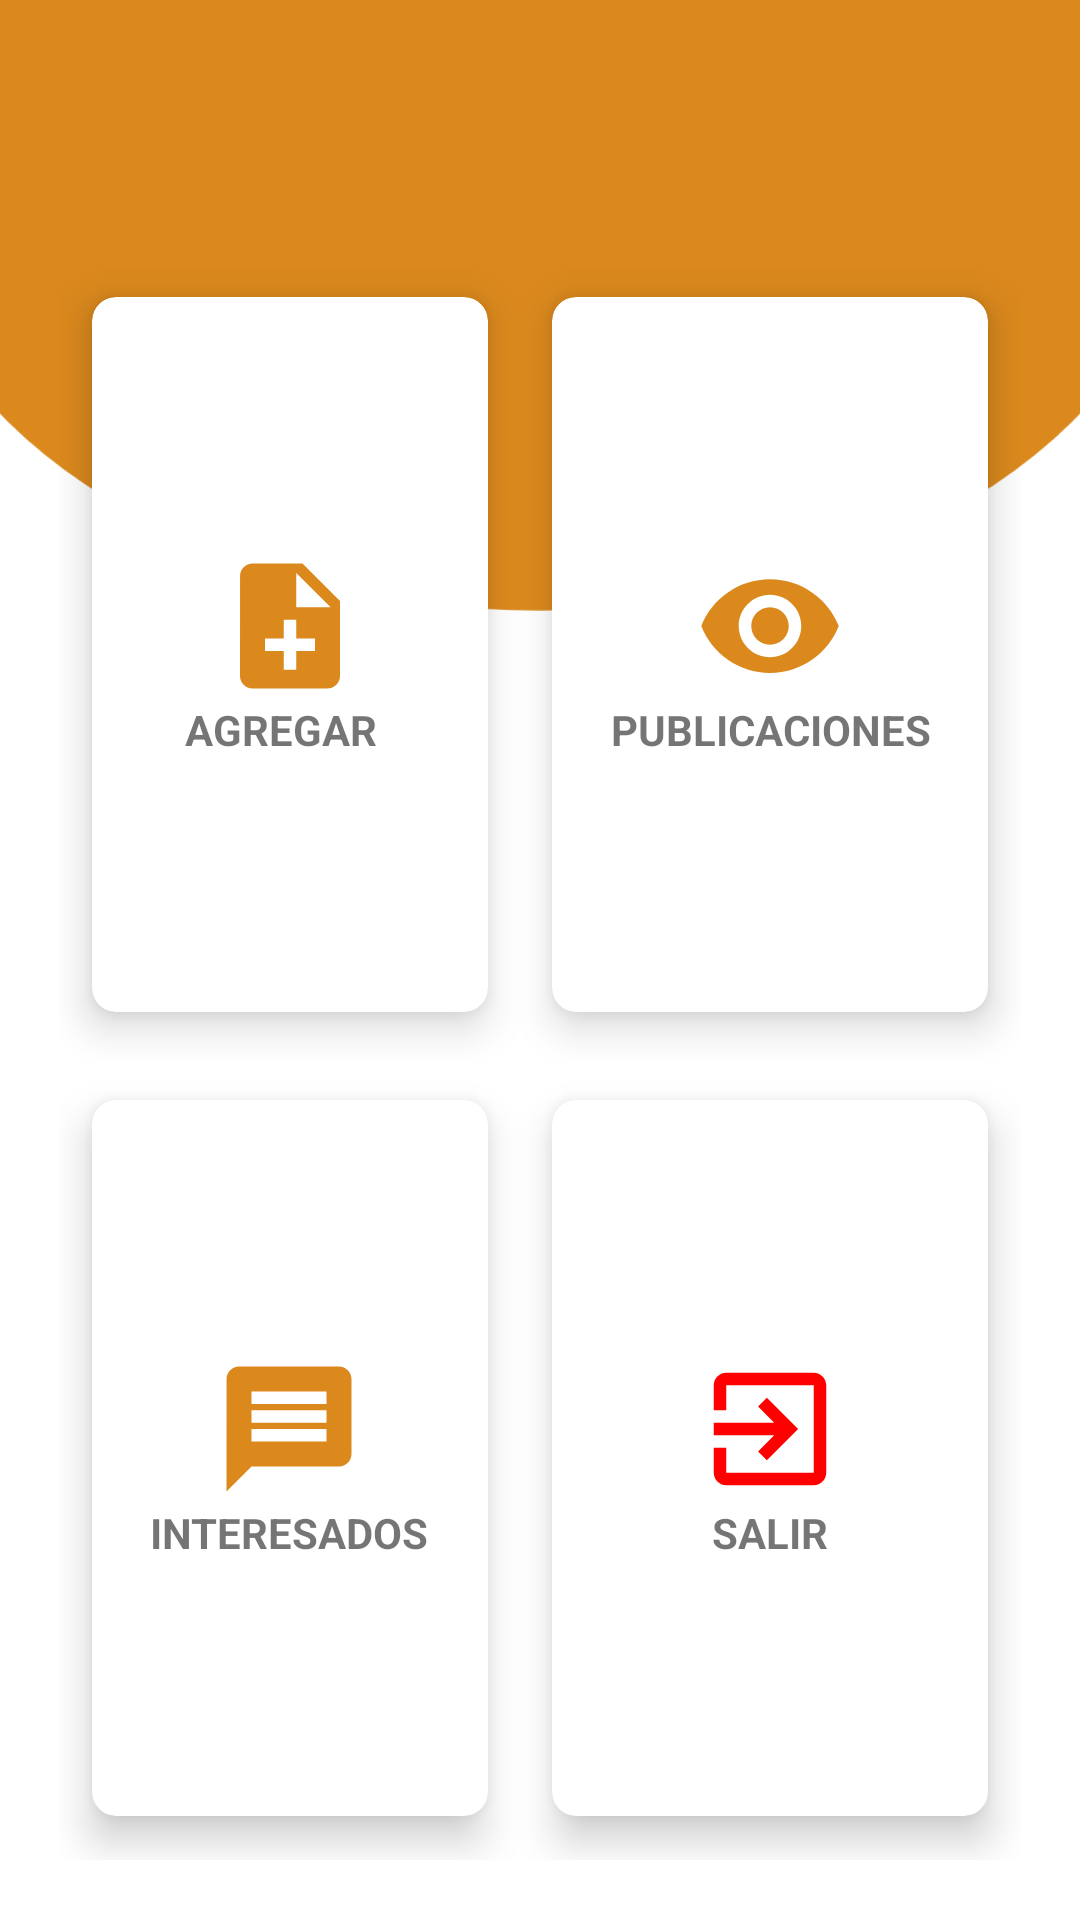

Where to tap for icons on this 1080w x 1920h app screen, as point (x, y):
eyee: point (770, 626)
mensajee: point (289, 1429)
